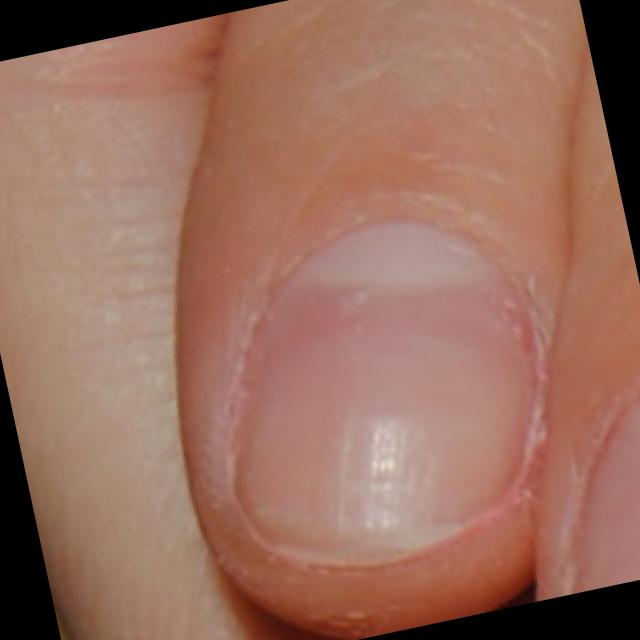Nail: (233, 221, 541, 563), (575, 401, 640, 592)
